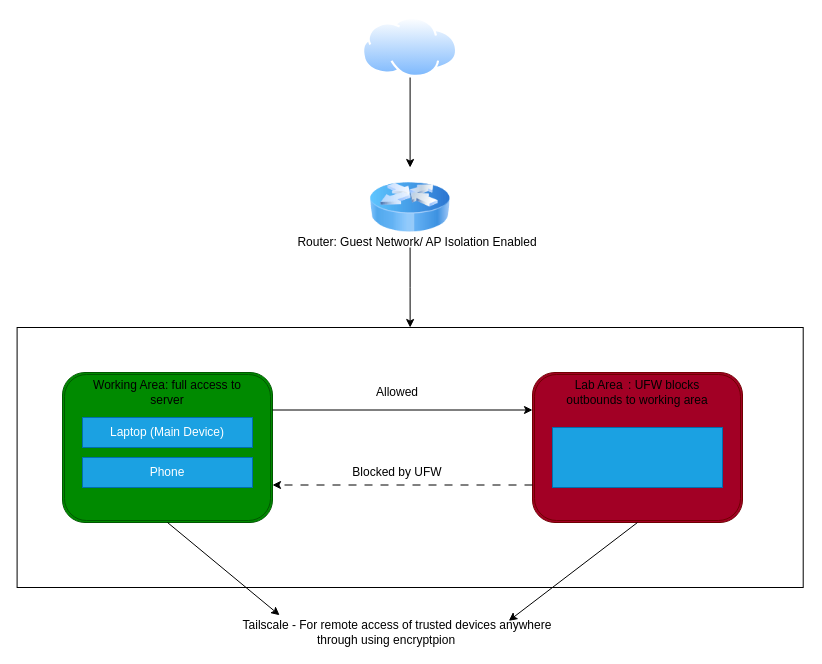
Some shapes in this 822 by 664 pixel diagram are drawn without their labels. Here are the shapes that lost their labels. From the top down, the centre of each, then its label:
point (409, 47): ISP
point (637, 457): Acer Homelab Server Services: SSH,Portainer,Jellyfin, Pihole, & Cockpit
